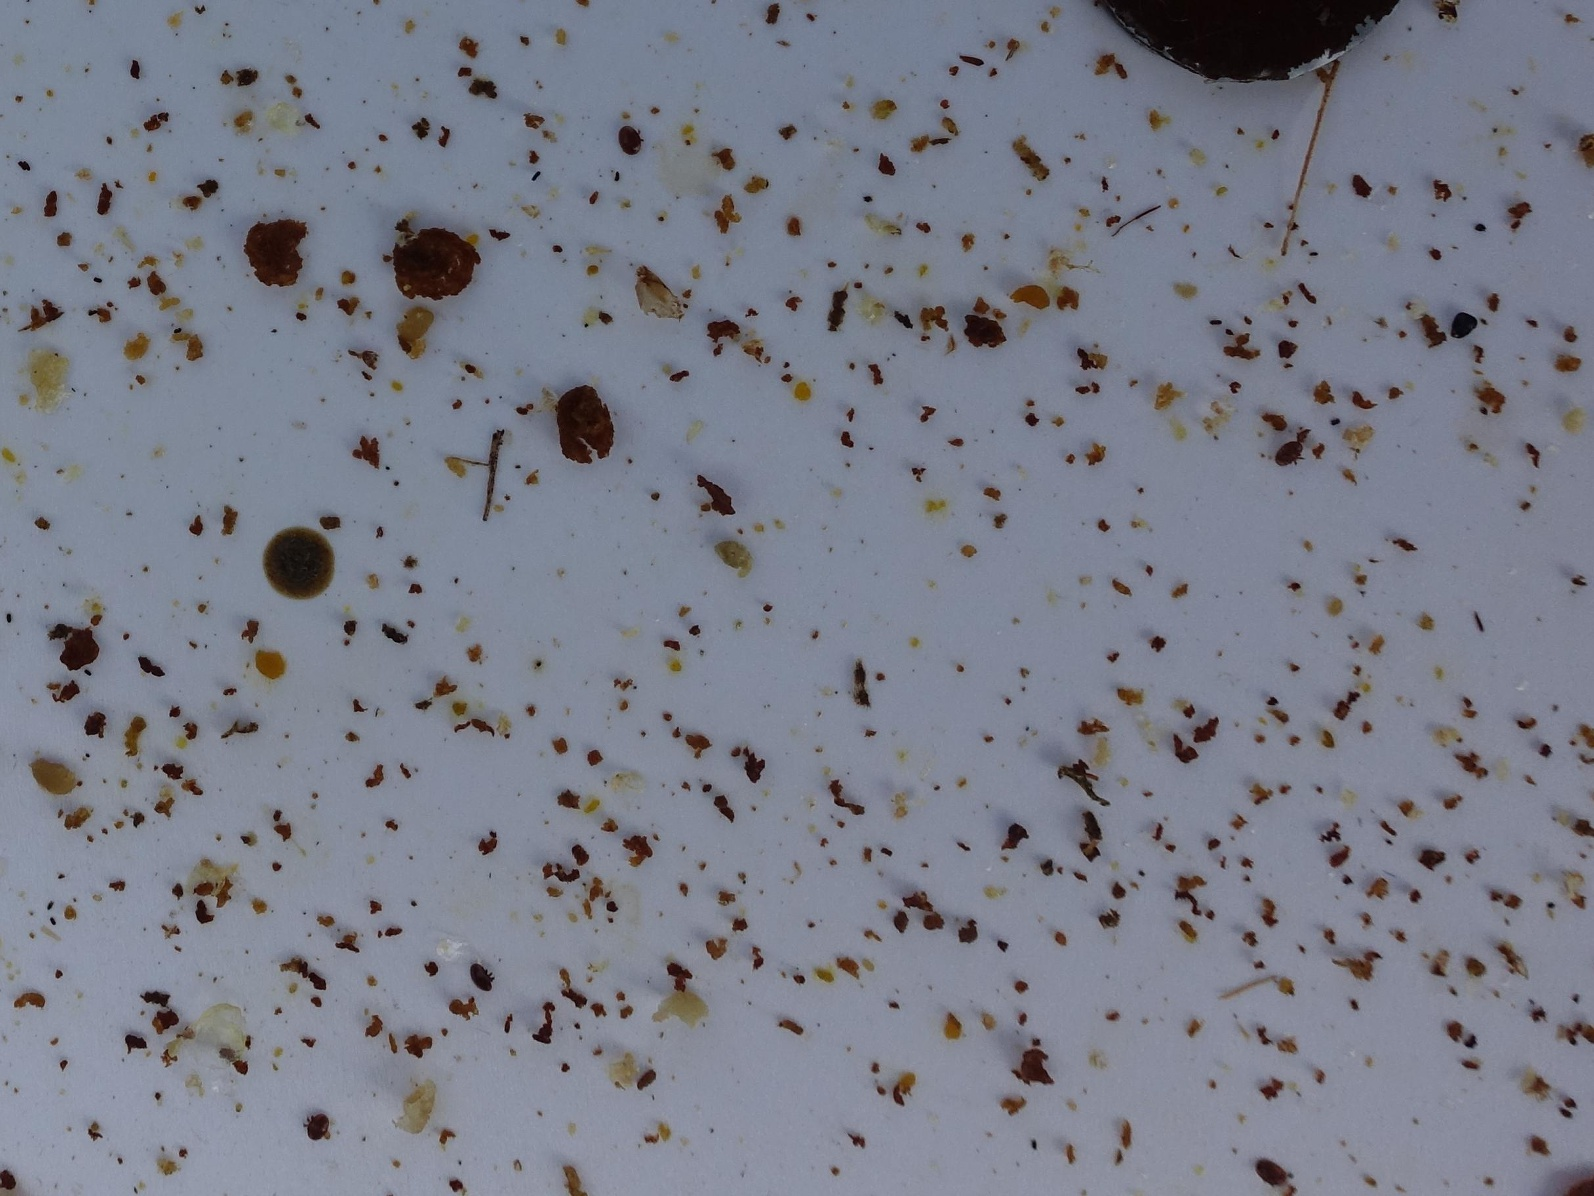Varroa: (610, 122, 649, 160), (1270, 433, 1308, 471), (464, 959, 501, 995), (300, 1107, 337, 1144), (1254, 1153, 1290, 1190)
